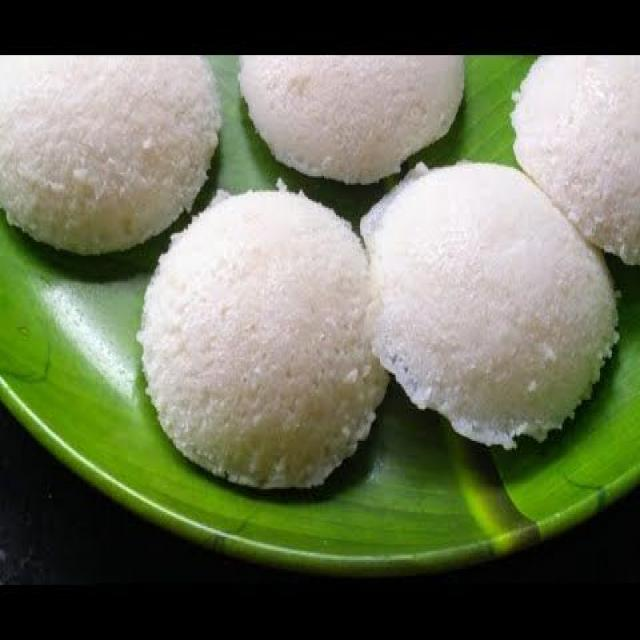Idli: (132, 188, 374, 488), (363, 163, 615, 437), (0, 57, 233, 259), (244, 52, 469, 174), (513, 54, 640, 266)
